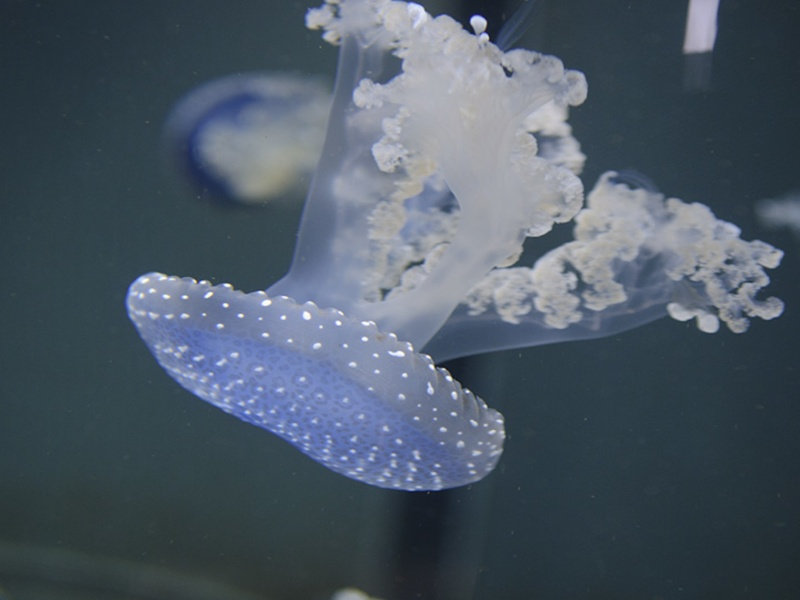Jellyfish: (121, 0, 784, 490)
